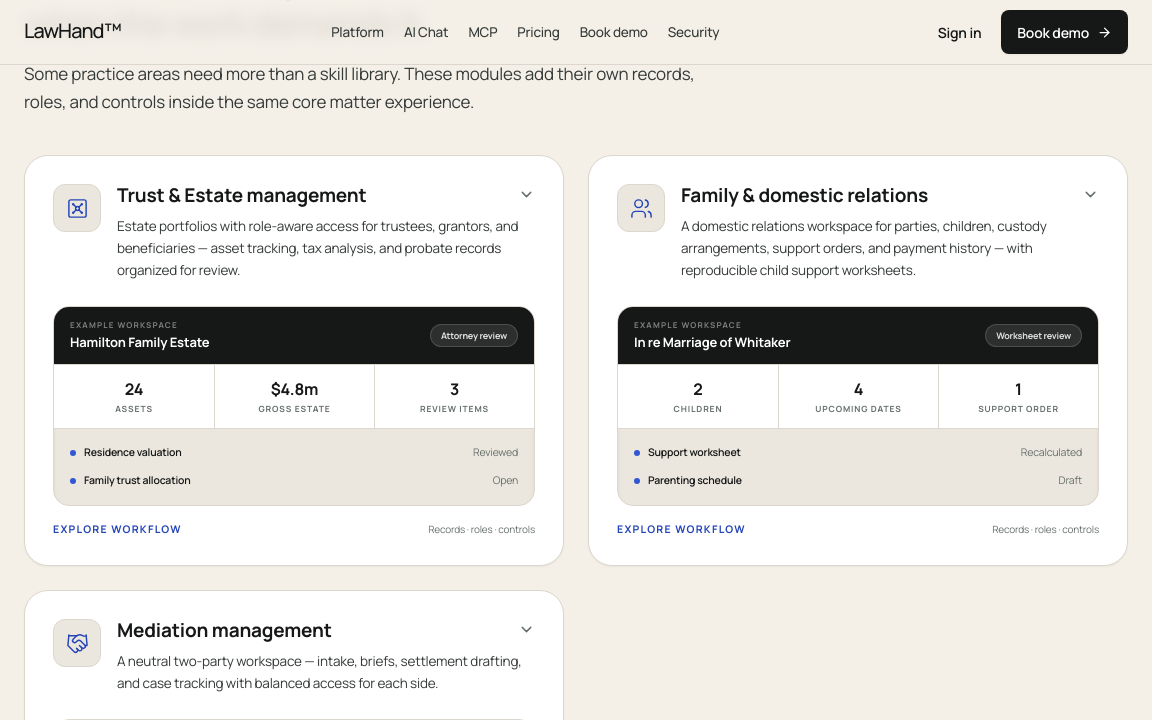
marketing add-on workflows › opens, switches, and closes the compact module details
(page scrolled)
Click the button "Trust & Estate management" at (294,541), box left=25, top=156, right=563, bottom=565
(page scrolled)
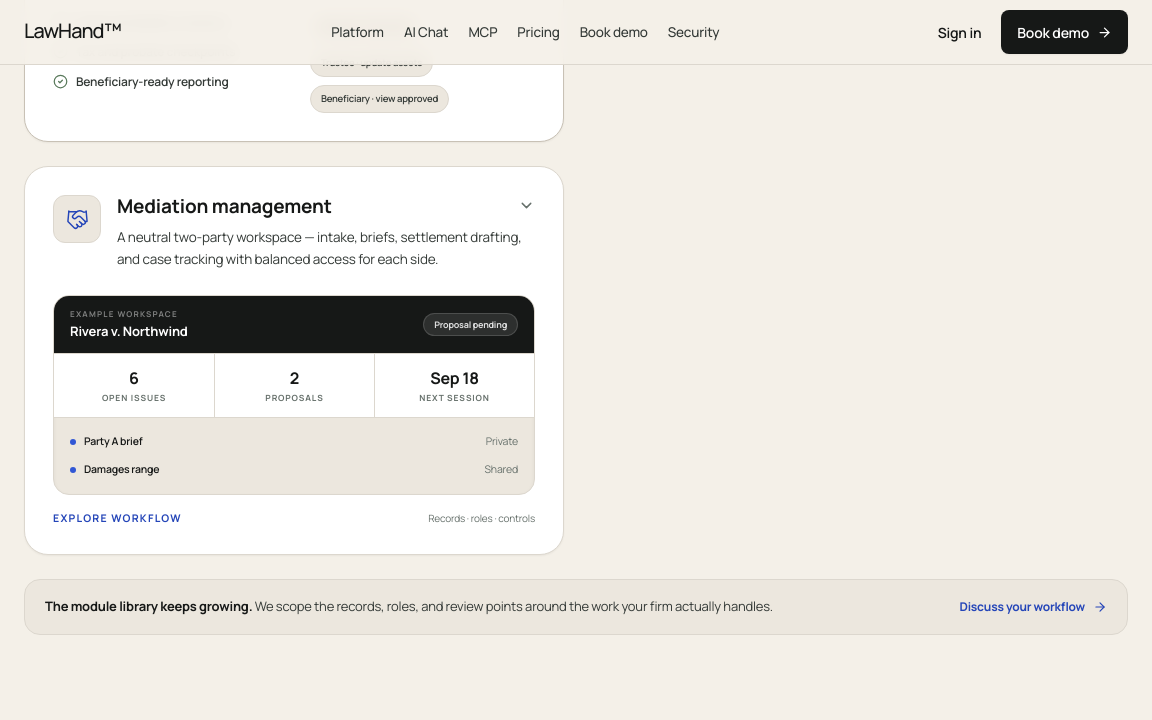
Expected: the list item "Asset and liability inventory" is shown, left=53, top=14, right=228, bottom=31
Click the button "Mediation management" at (294,531), box left=25, top=167, right=563, bottom=554
(page scrolled)
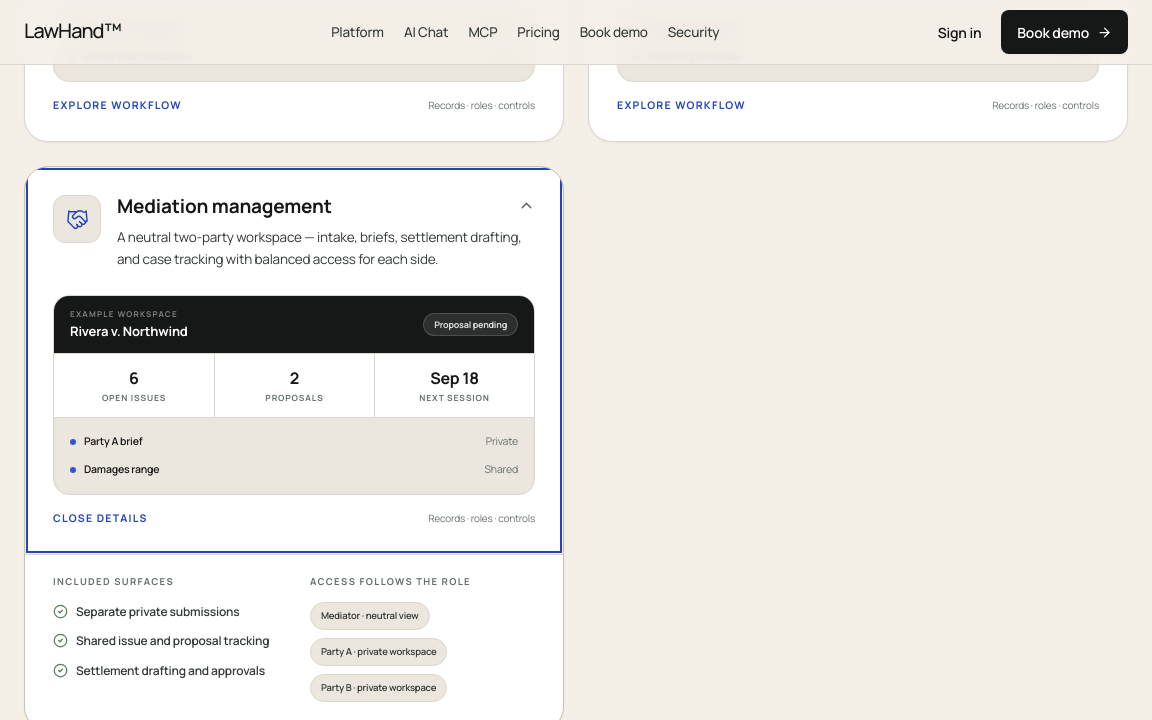
Expected: the text "Rivera v. Northwind" is shown, left=70, top=322, right=188, bottom=342
Result: the button "Mediation management" is expanded
Result: the list item "Shared issue and proposal tracking" is shown at left=53, top=631, right=290, bottom=651
Click the button "Mediation management" at (294,531), box left=25, top=167, right=563, bottom=554
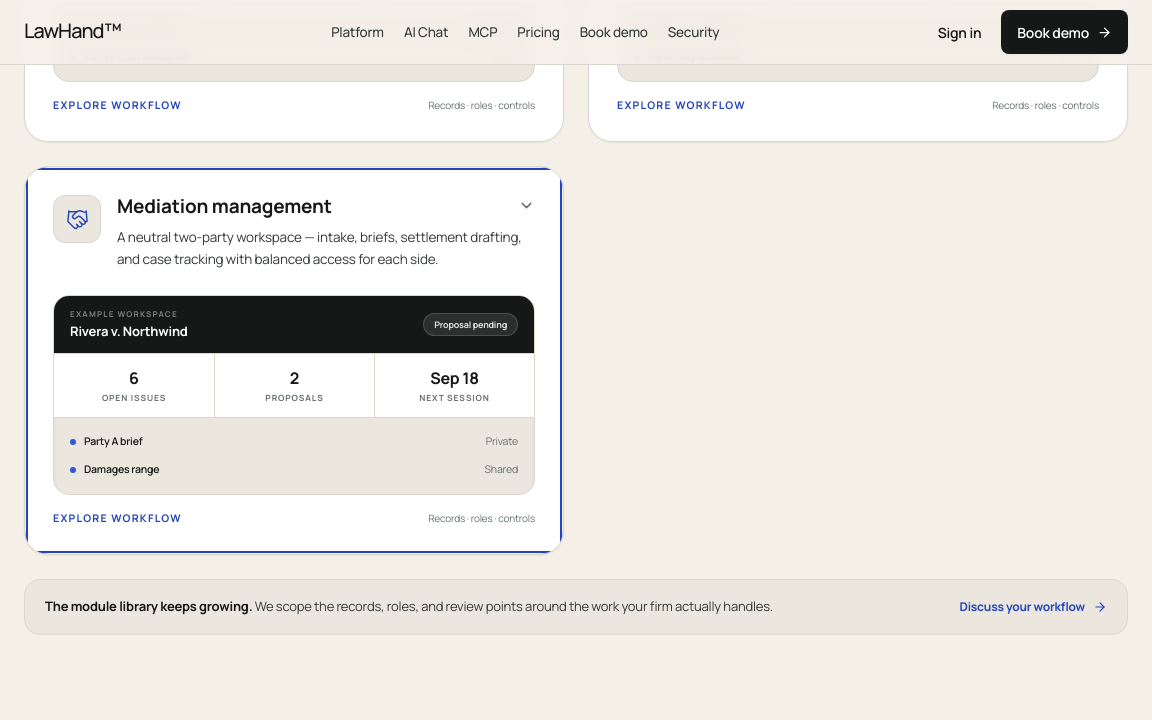
Result: the button "Mediation management" is collapsed at left=25, top=167, right=563, bottom=554
